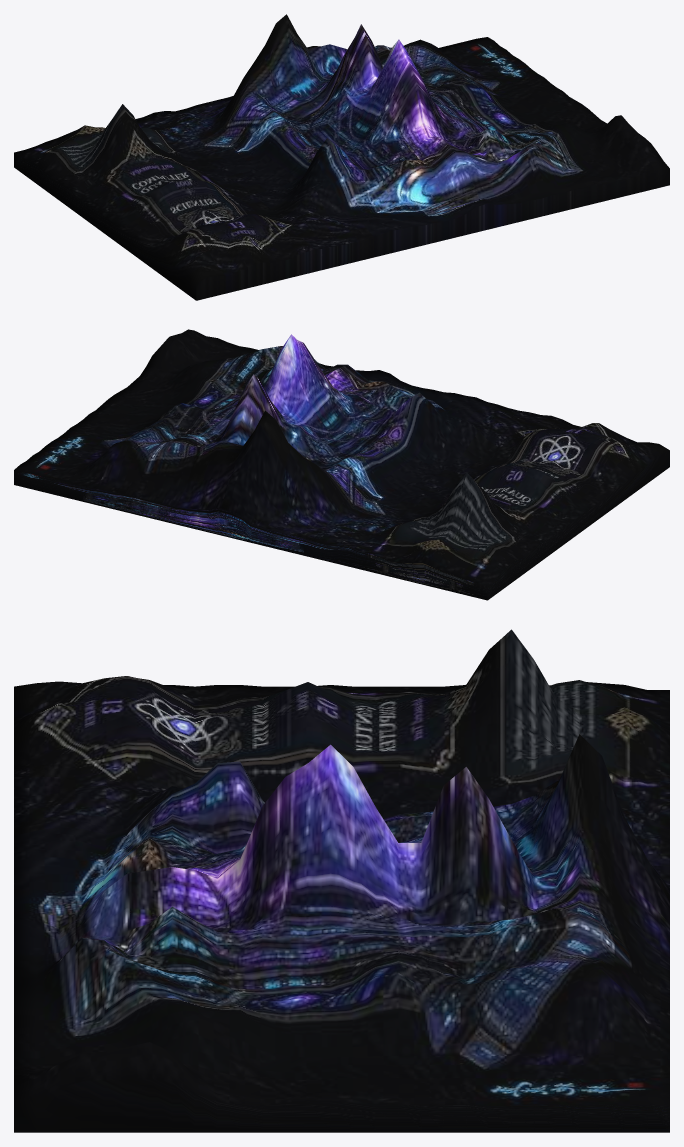
File: CAREER_13_Tool_05_Quantum.glb
3 views of the same model, one above another, from view 1: azimuth 30°, elevation 25°; view 2: azimuth 150°, elevation 25°; view 3: azimuth 270°, elevation 25° (orthographic). The views are drawn at different scales.
Parts seen in each view (by area): view 1: CAREER_13_Tool_05_Quantum; view 2: CAREER_13_Tool_05_Quantum; view 3: CAREER_13_Tool_05_Quantum.
Boxes of the visible parts, box(x1,y1,x2,y2) form: CAREER_13_Tool_05_Quantum: box(14, 14, 669, 300); CAREER_13_Tool_05_Quantum: box(14, 329, 669, 600); CAREER_13_Tool_05_Quantum: box(14, 629, 669, 1132).
Size of the model in its own units: 2 by 0.51 by 1.33.
1 material, 1 textured.
